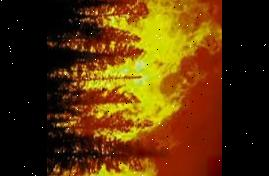fire: (46, 0, 220, 176)
